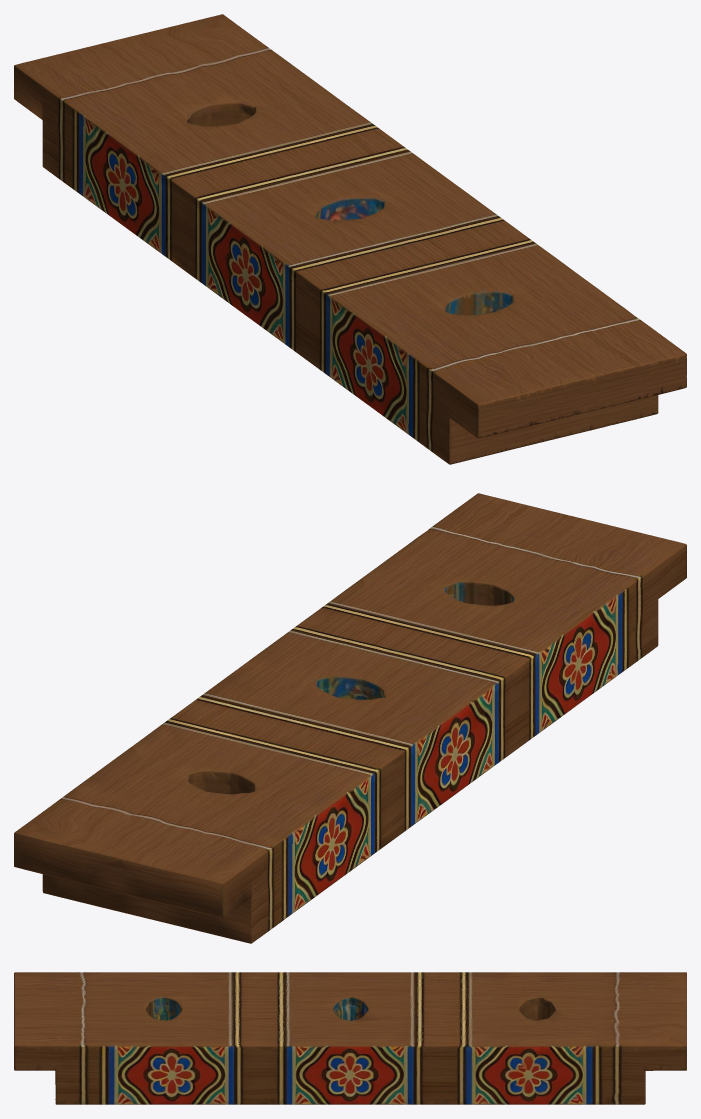
File: KR_사물_s1_deco_dancheong_beam_old.glb
3 views of the same model, one above another, from view 1: azimuth 30°, elevation 25°; view 2: azimuth 150°, elevation 25°; view 3: azimuth 270°, elevation 25° (orthographic). The views are drawn at different scales.
Parts seen in each view (by area): view 1: tripo_node_35fb0fc2-9216-4853-bcdc-3d041e225f20; view 2: tripo_node_35fb0fc2-9216-4853-bcdc-3d041e225f20; view 3: tripo_node_35fb0fc2-9216-4853-bcdc-3d041e225f20.
Part boxes in pixels (x1,y1,x2,y2): tripo_node_35fb0fc2-9216-4853-bcdc-3d041e225f20: [14, 14, 686, 464]; tripo_node_35fb0fc2-9216-4853-bcdc-3d041e225f20: [14, 493, 686, 943]; tripo_node_35fb0fc2-9216-4853-bcdc-3d041e225f20: [14, 972, 686, 1104].
Bounding box in the file's own units: 0.2607 × 0.0983 × 1.
Materials: 1 (1 with a texture image).
